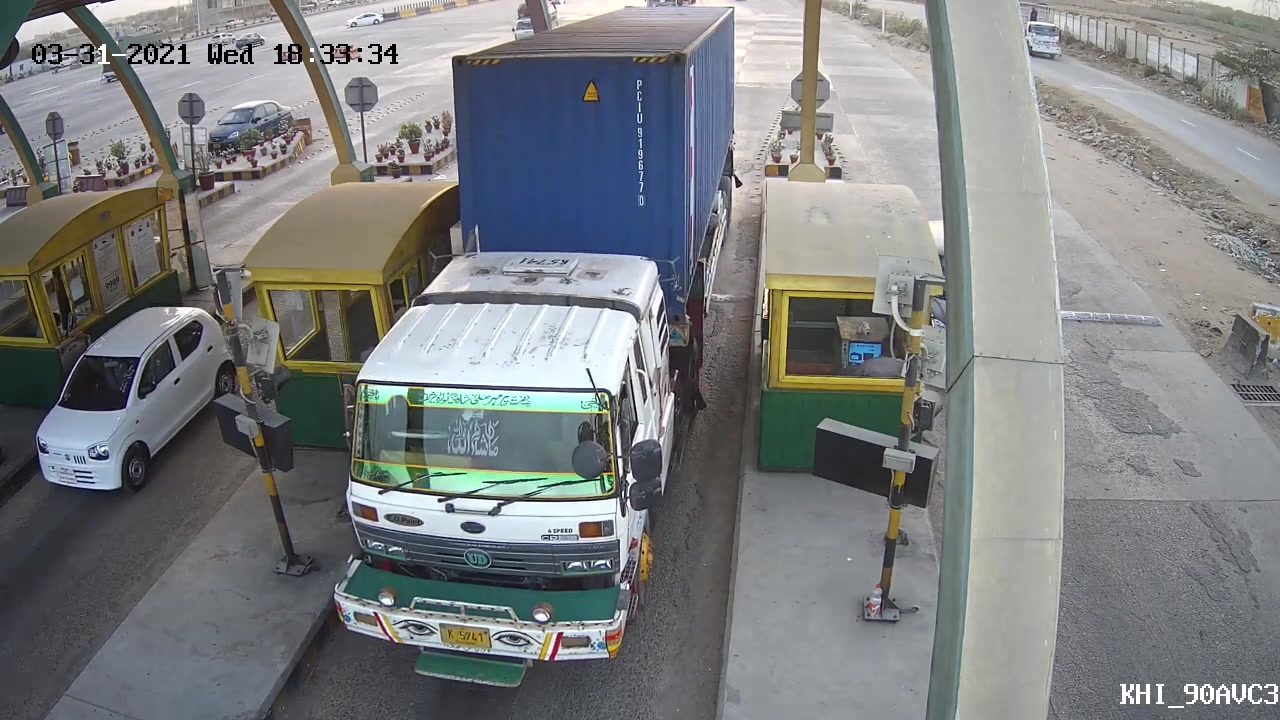F6: (339, 1, 763, 688)
